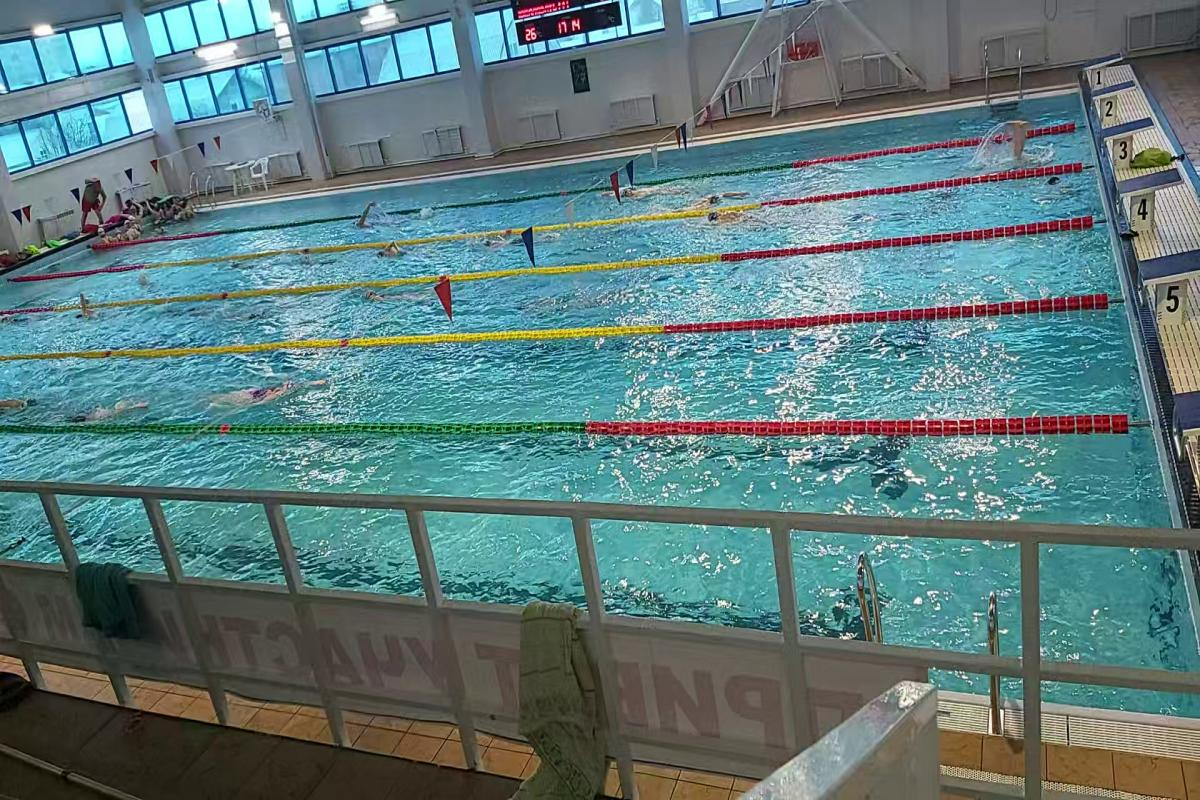swimmer: (203, 369, 338, 414), (356, 286, 441, 308), (699, 207, 770, 233), (623, 182, 685, 204), (690, 190, 752, 206), (372, 242, 413, 265), (478, 237, 521, 256)
